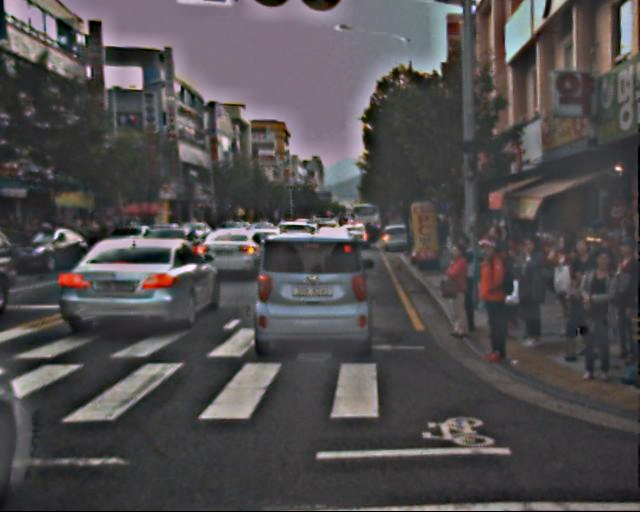person: (567, 250, 622, 383), (466, 241, 516, 364), (558, 238, 606, 356), (596, 235, 640, 348), (470, 222, 515, 331), (506, 239, 550, 346), (543, 230, 586, 336), (477, 226, 520, 330), (610, 254, 640, 388), (444, 232, 483, 328), (439, 242, 478, 336)
